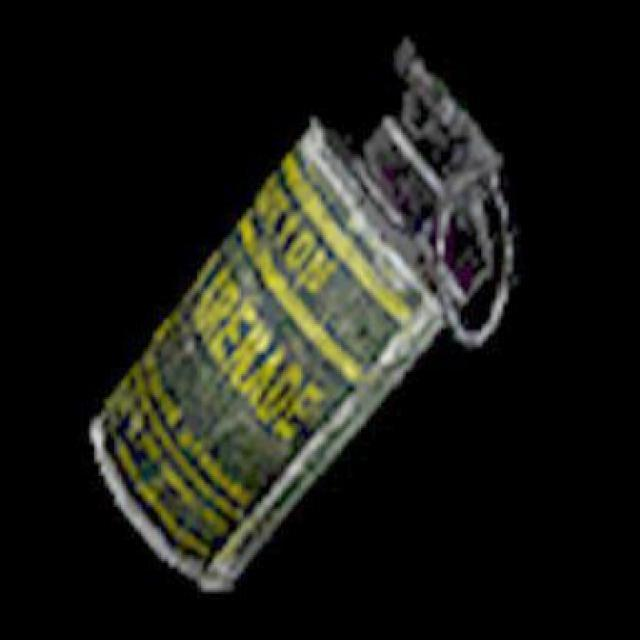Grenade: (92, 44, 514, 591)
